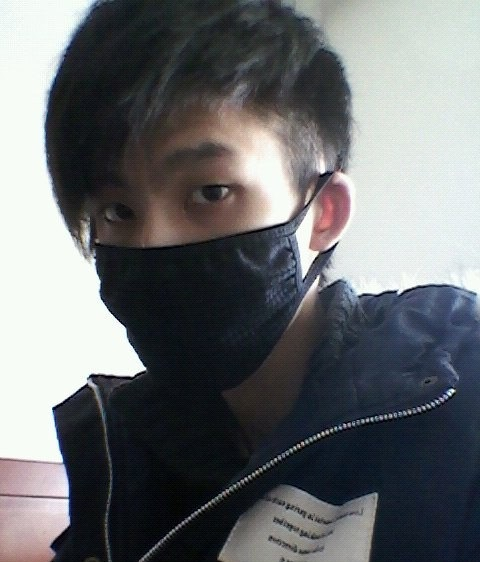face_mask: (89, 77, 298, 385)
